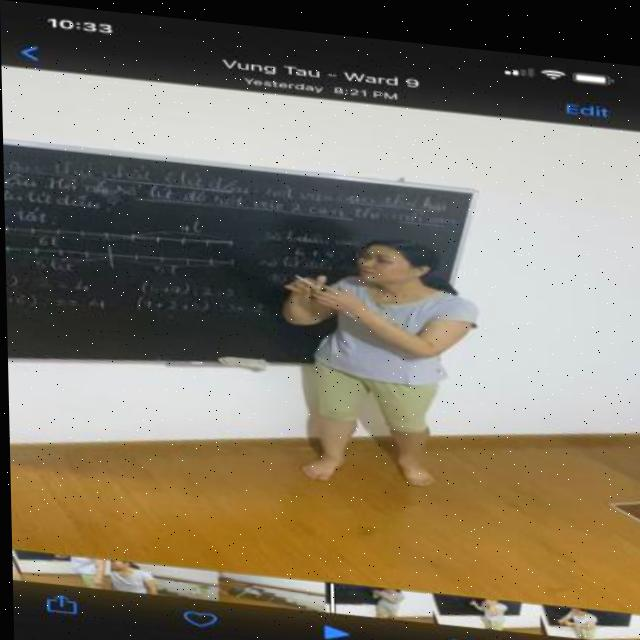cigarette: (292, 268, 313, 279)
